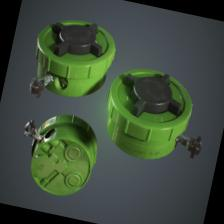PMN2: (101, 56, 216, 173), (14, 0, 122, 110), (7, 103, 104, 208)
